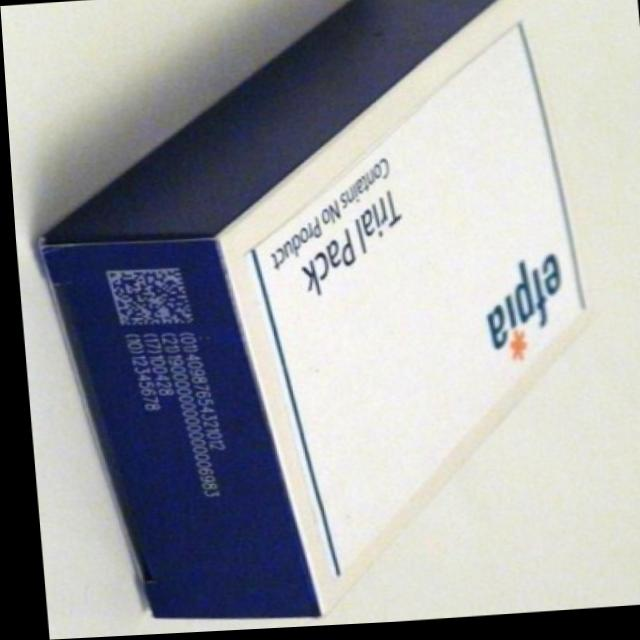datamatrix: (91, 259, 200, 337)
